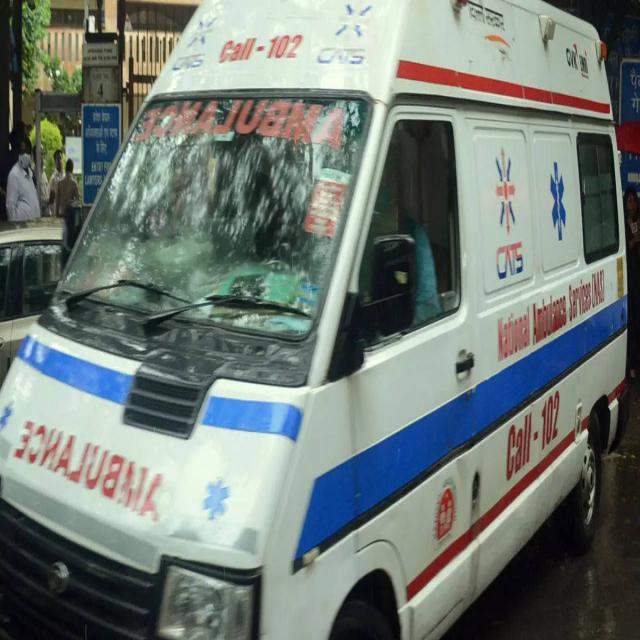emergency: (0, 0, 629, 639)
